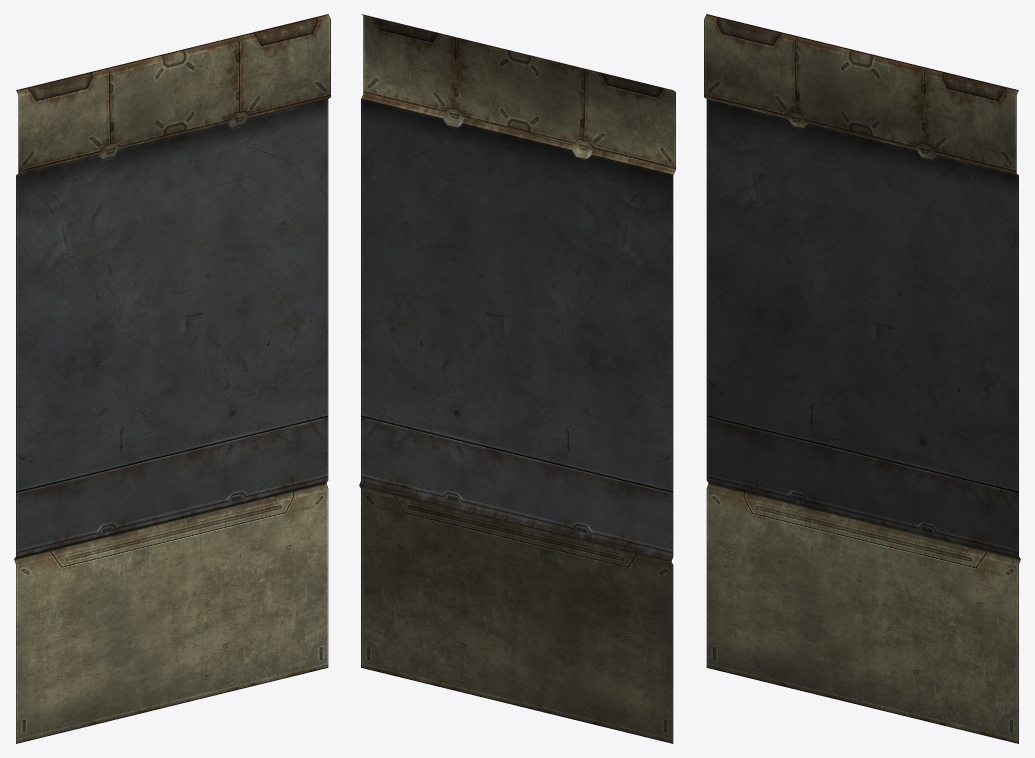
Rendered from datasite_flat01_short.dae.
3 renders of one model, left to right at view 1: azimuth 30°, elevation 25°; view 2: azimuth 150°, elevation 25°; view 3: azimuth 330°, elevation 25°, orthographic.
Visible parts, largest first — view 1: polySurface112; view 2: polySurface112; view 3: polySurface112.
Part boxes in pixels (x1,y1,x2,y2): polySurface112: (14,14,330,743); polySurface112: (359,14,675,743); polySurface112: (704,14,1020,743).
Bounding box in the file's own units: 2 × 4 × 0.0483.
